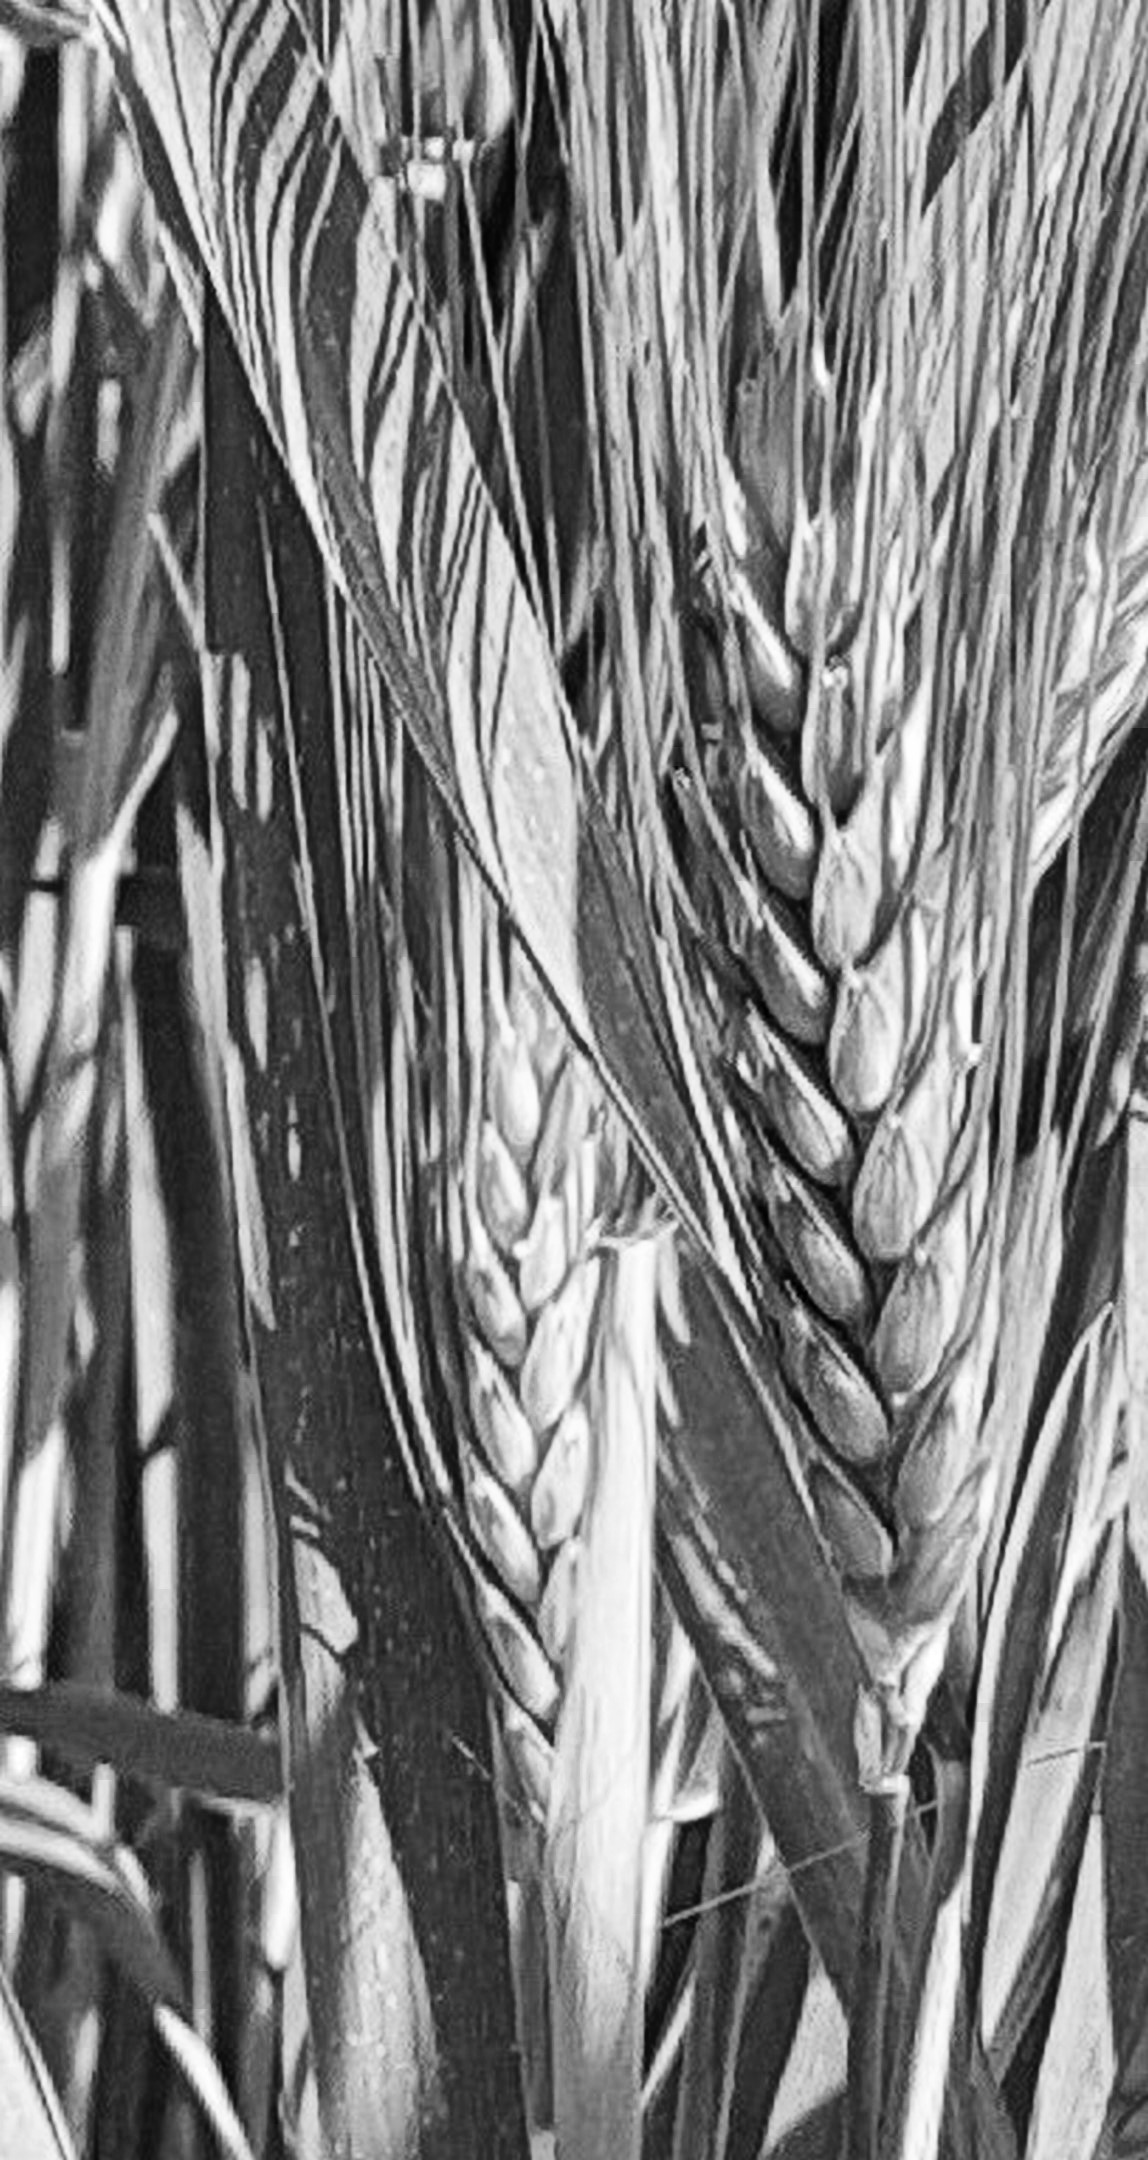Healthy Wheat: (673, 424, 1027, 1669)
